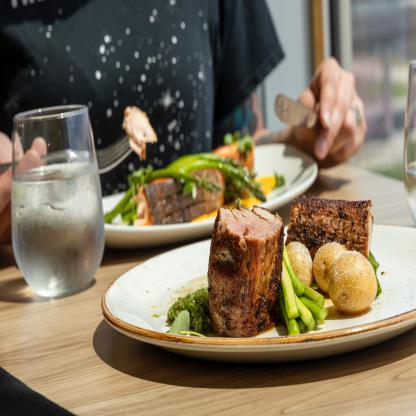Carne: (206, 197, 287, 336), (289, 189, 370, 253)
